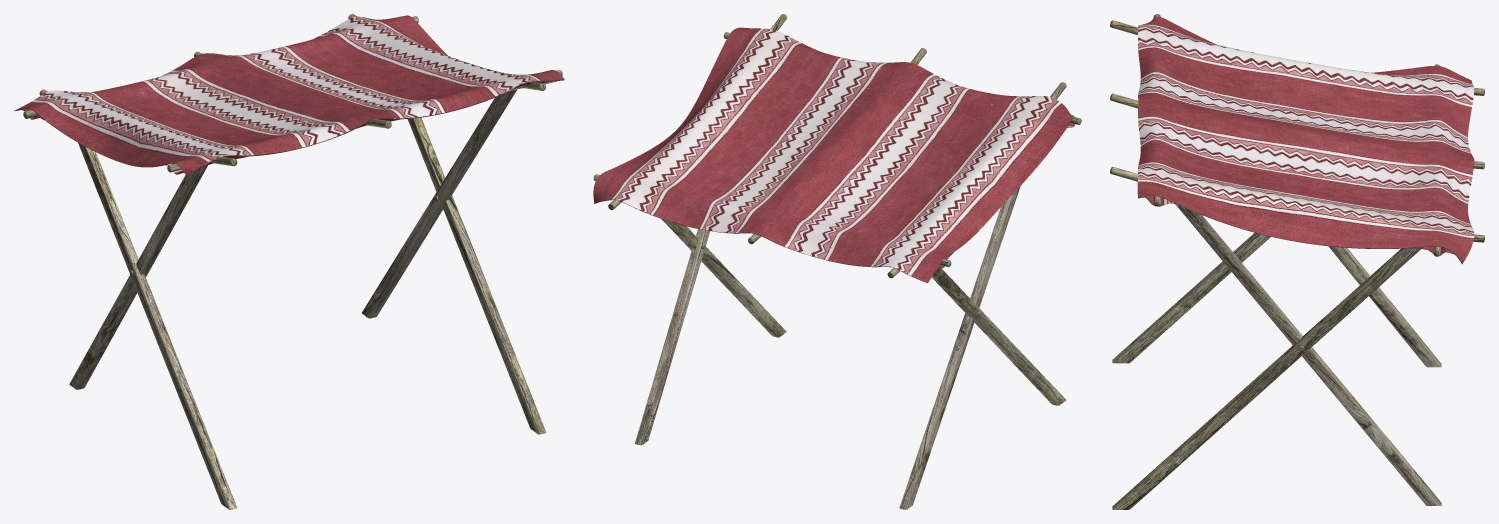
Rendered from tent1.gltf.
The picture shows the model from 3 angles, left to right: view 1: azimuth 30°, elevation 25°; view 2: azimuth 150°, elevation 25°; view 3: azimuth 270°, elevation 25°; orthographic projection. The views are drawn at different scales.
Parts seen in each view (by area): view 1: tent1; view 2: tent1; view 3: tent1.
Part boxes in pixels (x1,y1,x2,y2): tent1: (14,14,564,509); tent1: (593,14,1081,509); tent1: (1110,14,1484,509).
Size of the model in its own units: 3.07 by 2.61 by 2.6.
Materials: 3 (3 with a texture image).
